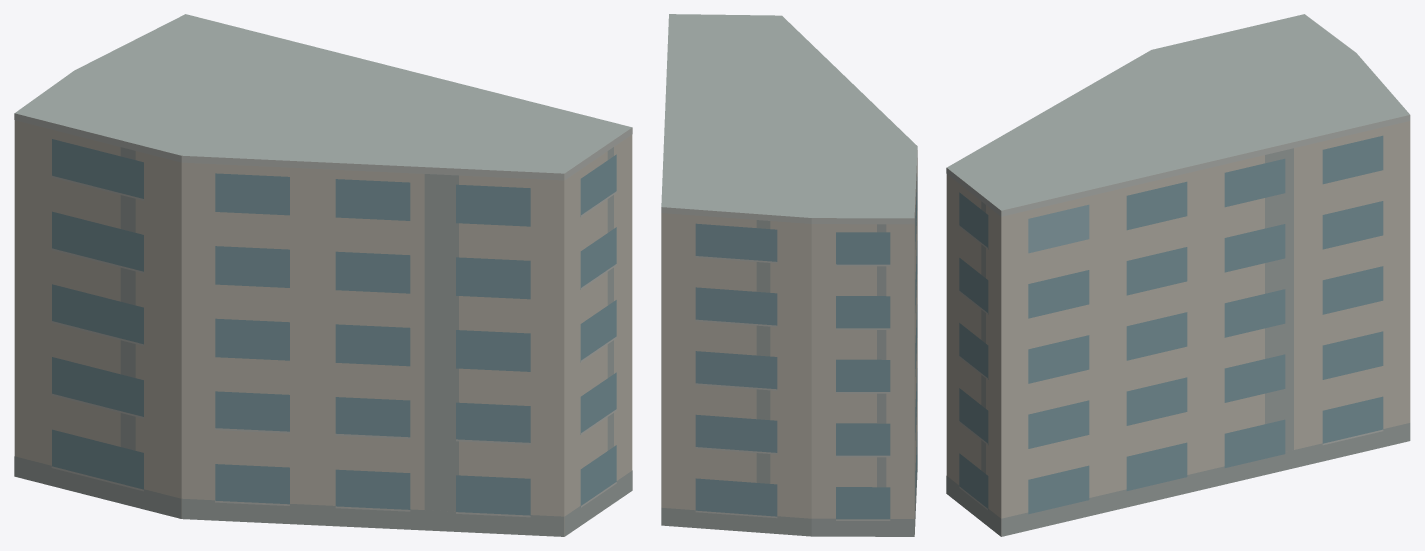
The model's file is survey-upis-32749074.glb.
3 views of the same model, side by side, from view 1: azimuth 30°, elevation 25°; view 2: azimuth 150°, elevation 25°; view 3: azimuth 270°, elevation 25° (orthographic). The views are drawn at different scales.
Visible parts, largest first — view 1: survey-upis-32749074.tmp; view 2: survey-upis-32749074.tmp; view 3: survey-upis-32749074.tmp.
Boxes of the visible parts, x1,y1,x2,y2 form: survey-upis-32749074.tmp: (14, 14, 632, 536); survey-upis-32749074.tmp: (661, 14, 917, 536); survey-upis-32749074.tmp: (946, 14, 1410, 536).
Size of the model in its own units: 16.83 by 13 by 16.76.
